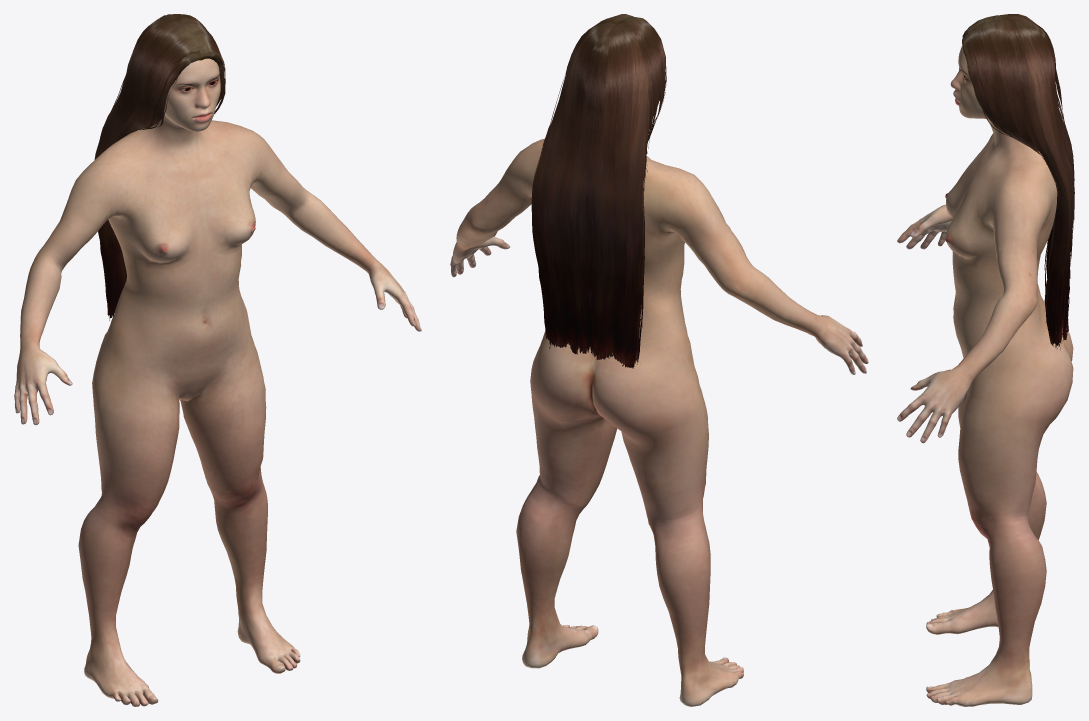
Rendered from cuerpo.glb.
3 renders of one model, left to right at view 1: azimuth 30°, elevation 25°; view 2: azimuth 150°, elevation 25°; view 3: azimuth 270°, elevation 25°, orthographic. The views are drawn at different scales.
Parts seen in each view (by area): view 1: piel, cabello; view 2: piel, cabello; view 3: piel, cabello.
Part boxes in pixels (x1,y1,x2,y2): piel: (14, 58, 421, 706); cabello: (94, 14, 225, 320); piel: (450, 138, 868, 706); cabello: (531, 14, 666, 368); piel: (897, 45, 1073, 706); cabello: (962, 14, 1074, 350).
Size of the model in its own units: 0.8043 by 1.24 by 0.3095.
Materials: 4 (4 with a texture image).
